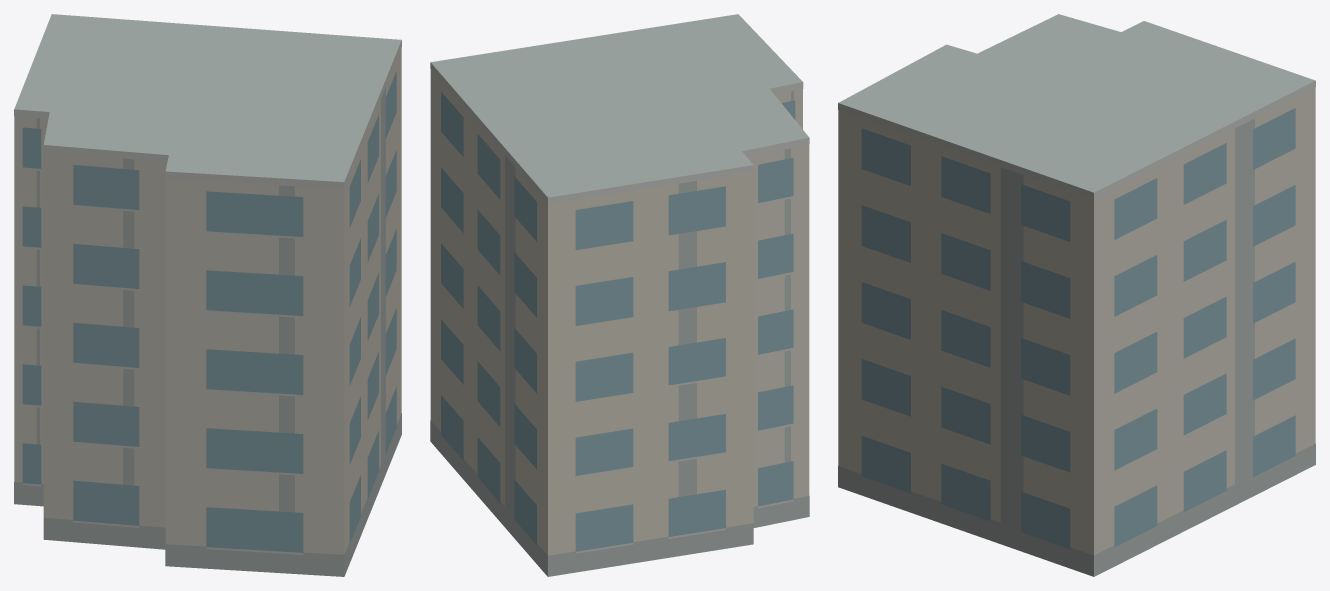
Rendered from survey-upis-32975532.glb.
3 views of the same model, side by side, from view 1: azimuth 30°, elevation 25°; view 2: azimuth 150°, elevation 25°; view 3: azimuth 270°, elevation 25° (orthographic). The views are drawn at different scales.
Parts seen in each view (by area): view 1: survey-upis-32975532.tmp; view 2: survey-upis-32975532.tmp; view 3: survey-upis-32975532.tmp.
Boxes of the visible parts, x1=… form: survey-upis-32975532.tmp: x1=14, y1=14, x2=401, y2=576; survey-upis-32975532.tmp: x1=430, y1=14, x2=809, y2=576; survey-upis-32975532.tmp: x1=838, y1=14, x2=1315, y2=576.
Size of the model in its own units: 13.52 by 13.55 by 15.28.
